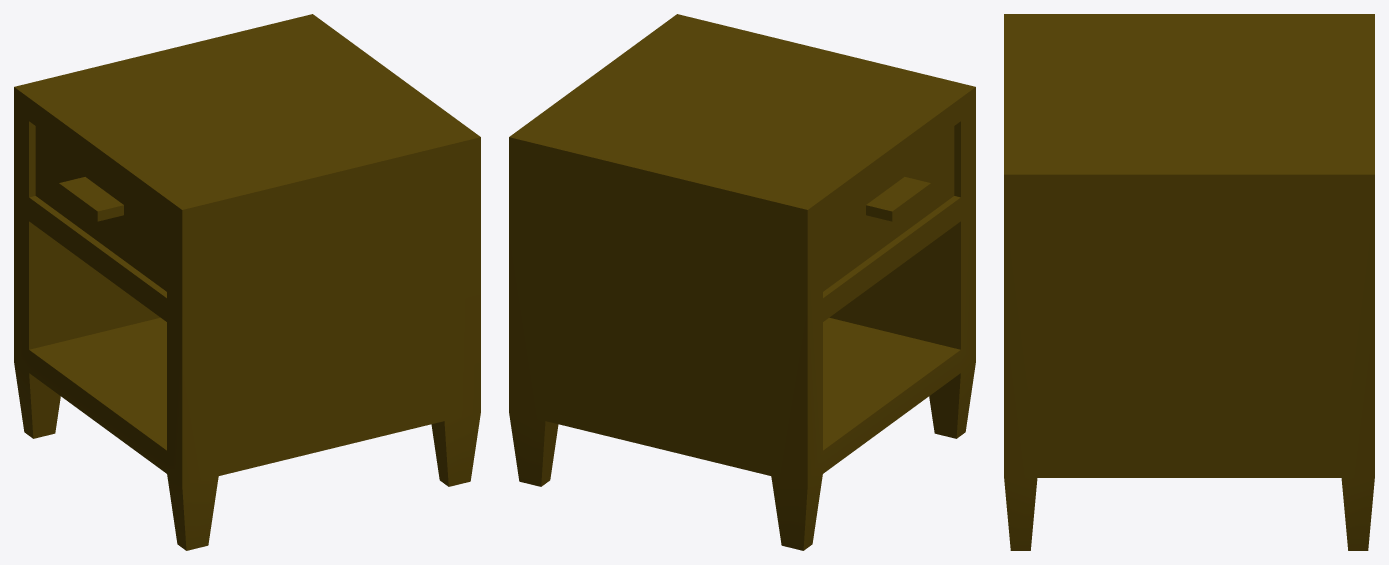
File: 3d headboard.fbx
3 views of the same model, side by side, from view 1: azimuth 30°, elevation 25°; view 2: azimuth 150°, elevation 25°; view 3: azimuth 270°, elevation 25° (orthographic). The views are drawn at different scales.
Visible parts, largest first — view 1: d_headboard:pCube1; view 2: d_headboard:pCube1; view 3: d_headboard:pCube1.
Part boxes in pixels (box(x1,y1,x2,y2)): d_headboard:pCube1: box(14, 14, 480, 550); d_headboard:pCube1: box(509, 14, 975, 550); d_headboard:pCube1: box(1004, 14, 1374, 550).
Bounding box in the file's own units: 64.42 × 66.66 × 58.92.
